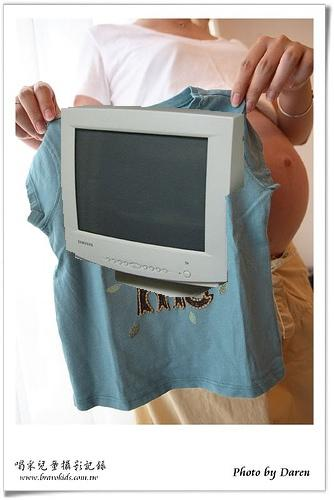tampered: (62, 106, 244, 297)
